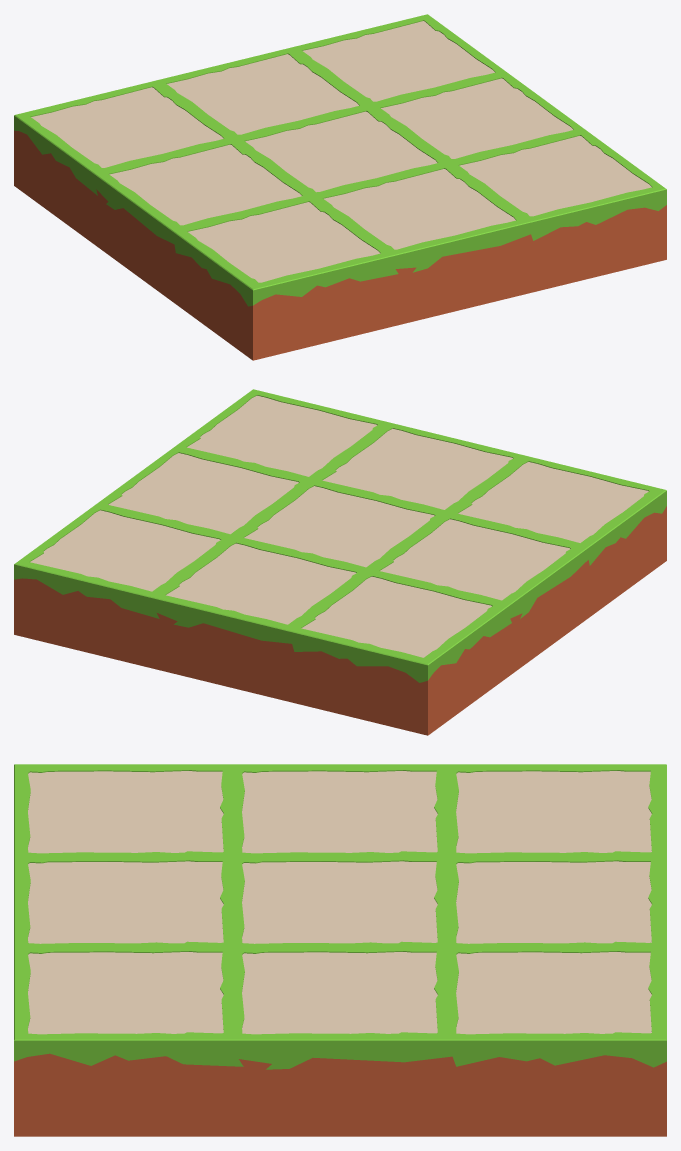
The model's file is Board.fbx.
The picture shows the model from 3 angles, top to bottom: view 1: azimuth 30°, elevation 25°; view 2: azimuth 150°, elevation 25°; view 3: azimuth 270°, elevation 25°; orthographic projection. The views are drawn at different scales.
Visible parts, largest first — view 1: Board, Board_Top, Board_Panel(6), Board_Panel(5), Board_Panel(4), Board_Panel(7), Board_Panel(8), Board_Panel(3), Board_Panel(9), Board_Panel(0), Board_Panel(1); view 2: Board, Board_Top, Board_Panel(8), Board_Panel(6), Board_Panel(4), Board_Panel(9), Board_Panel(7), Board_Panel(5), Board_Panel(1), Board_Panel(0), Board_Panel(3); view 3: Board, Board_Top, Board_Panel(6), Board_Panel(3), Board_Panel(9), Board_Panel(4), Board_Panel(0), Board_Panel(7), Board_Panel(1), Board_Panel(5), Board_Panel(8).
Part boxes in pixels (bbox=[...]): Board: bbox=[14, 122, 666, 360]; Board_Top: bbox=[14, 14, 666, 296]; Board_Panel(6): bbox=[381, 78, 573, 158]; Board_Panel(5): bbox=[245, 111, 437, 192]; Board_Panel(4): bbox=[109, 144, 301, 225]; Board_Panel(7): bbox=[31, 87, 223, 167]; Board_Panel(8): bbox=[167, 54, 358, 134]; Board_Panel(3): bbox=[459, 136, 651, 216]; Board_Panel(9): bbox=[303, 21, 494, 101]; Board_Panel(0): bbox=[188, 202, 380, 282]; Board_Panel(1): bbox=[323, 169, 515, 249]; Board: bbox=[14, 497, 666, 735]; Board_Top: bbox=[14, 389, 666, 671]; Board_Panel(8): bbox=[166, 543, 356, 624]; Board_Panel(6): bbox=[108, 453, 298, 534]; Board_Panel(4): bbox=[380, 519, 570, 600]; Board_Panel(9): bbox=[30, 510, 220, 591]; Board_Panel(7): bbox=[301, 576, 491, 657]; Board_Panel(5): bbox=[244, 486, 434, 567]; Board_Panel(1): bbox=[322, 428, 512, 509]; Board_Panel(0): bbox=[458, 462, 648, 542]; Board_Panel(3): bbox=[187, 395, 377, 476]; Board: bbox=[14, 1049, 666, 1136]; Board_Top: bbox=[14, 764, 666, 1049]; Board_Panel(6): bbox=[242, 952, 437, 1034]; Board_Panel(3): bbox=[28, 952, 223, 1034]; Board_Panel(9): bbox=[456, 952, 651, 1034]; Board_Panel(4): bbox=[242, 771, 437, 853]; Board_Panel(0): bbox=[28, 771, 223, 853]; Board_Panel(7): bbox=[456, 771, 651, 853]; Board_Panel(1): bbox=[28, 861, 223, 943]; Board_Panel(5): bbox=[242, 861, 437, 943]; Board_Panel(8): bbox=[456, 861, 651, 943].
Bounding box in the file's own units: 305 × 50 × 305.
